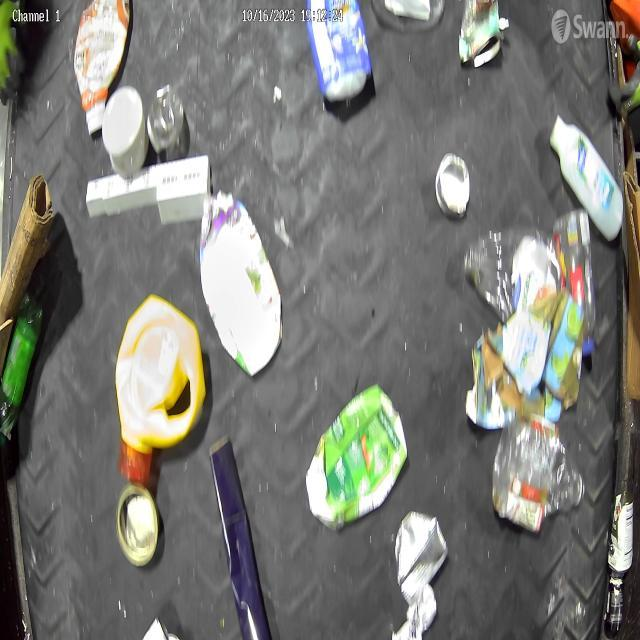can: (393, 504, 451, 604), (115, 484, 164, 570), (456, 0, 511, 70), (432, 152, 472, 220), (606, 488, 634, 574), (604, 576, 625, 638)
non_white_jug: (114, 294, 208, 484), (302, 384, 410, 531), (302, 0, 374, 106)
plastic_bottle: (491, 411, 588, 533), (462, 224, 560, 324), (0, 289, 45, 443), (554, 204, 597, 364)
